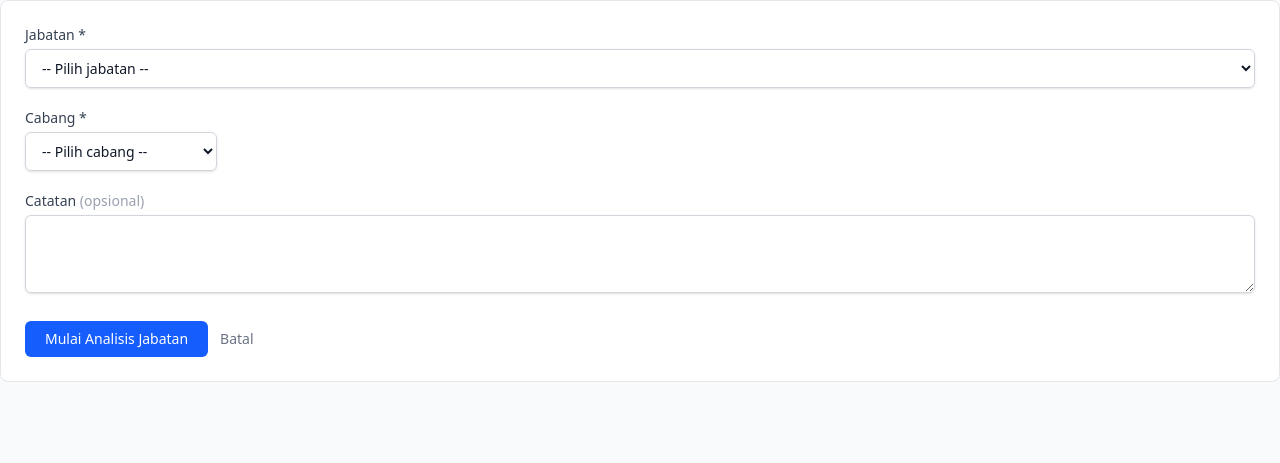
TiSesiForm — notifikasi kegagalan (regresi 026/017) › pesan backend 422 tampil di toast dan error inline
Step 1. Select "Guru Kelas SD" in the dropdown labelled "Jabatan *" → point(640, 68), box 25,49 -> 1255,88
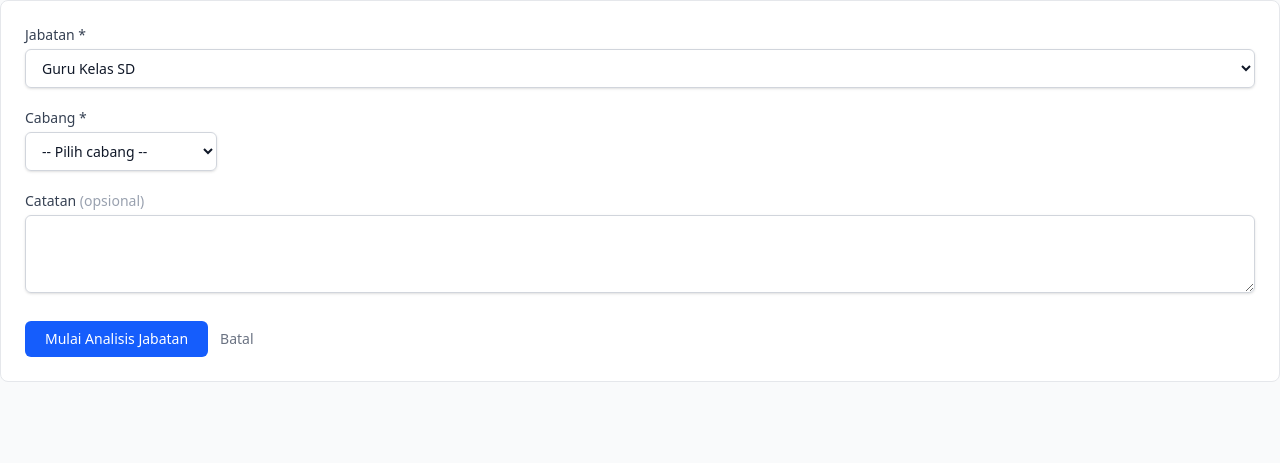
Step 2. Select "Semarang" in the dropdown labelled "Cabang *" → point(121, 152), box 25,132 -> 217,171
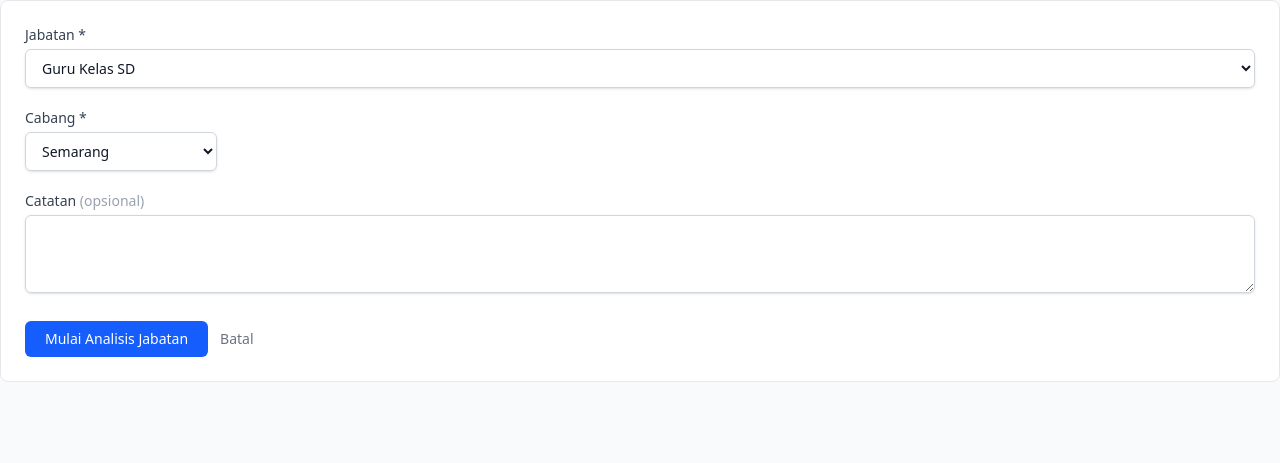
Step 3. Click the button "Mulai Analisis Jabatan" → point(117, 339), box 25,321 -> 208,357
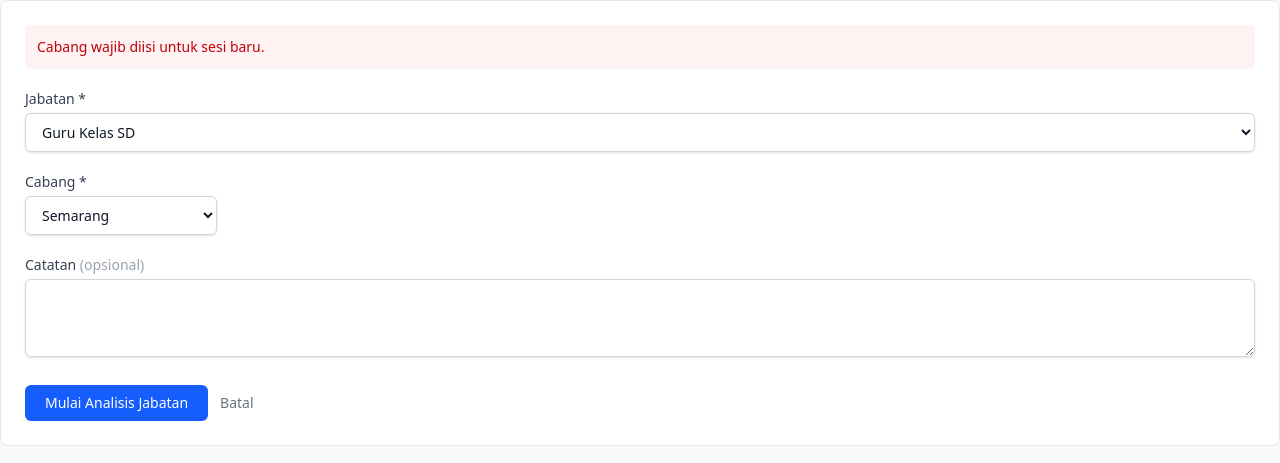
Expected: the text "Cabang wajib diisi untuk sesi baru." is shown, 25,25 -> 1255,69
